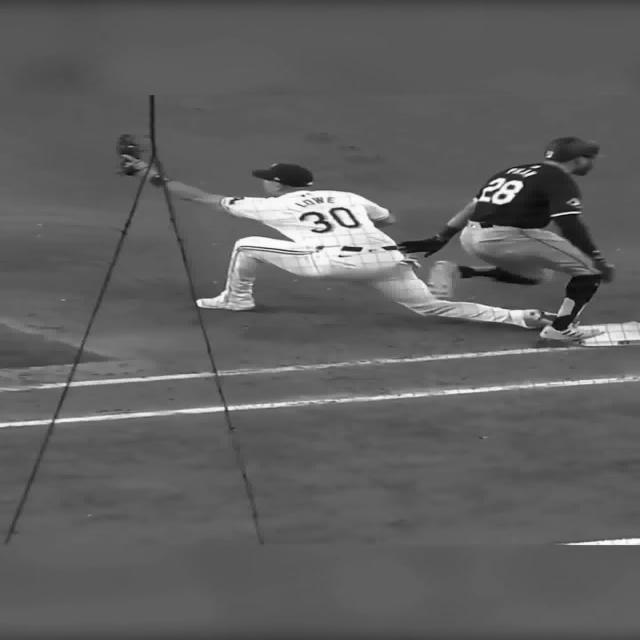base: (543, 327, 640, 345)
baseball_glove: (109, 138, 144, 176), (563, 328, 640, 337)
shoe: (430, 259, 462, 301), (538, 323, 604, 341), (195, 292, 255, 311), (520, 308, 558, 328)
